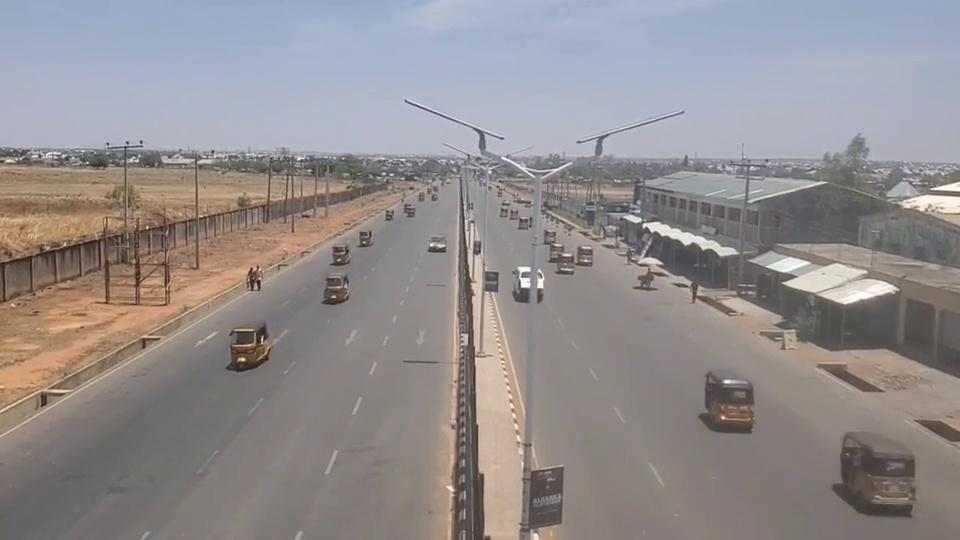bus: (512, 265, 544, 300)
car: (428, 235, 447, 253)
keke: (839, 430, 916, 514), (703, 369, 755, 429), (228, 324, 271, 369), (323, 274, 351, 304), (331, 244, 351, 265), (358, 230, 373, 246)
